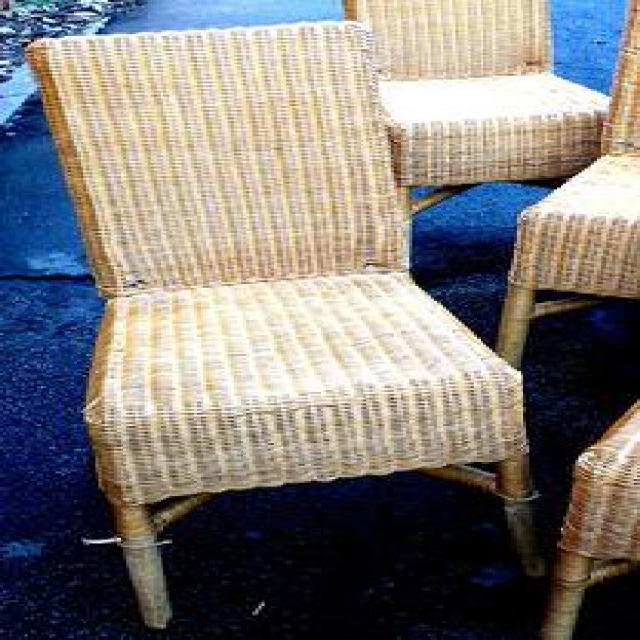chair: (22, 19, 544, 629)
